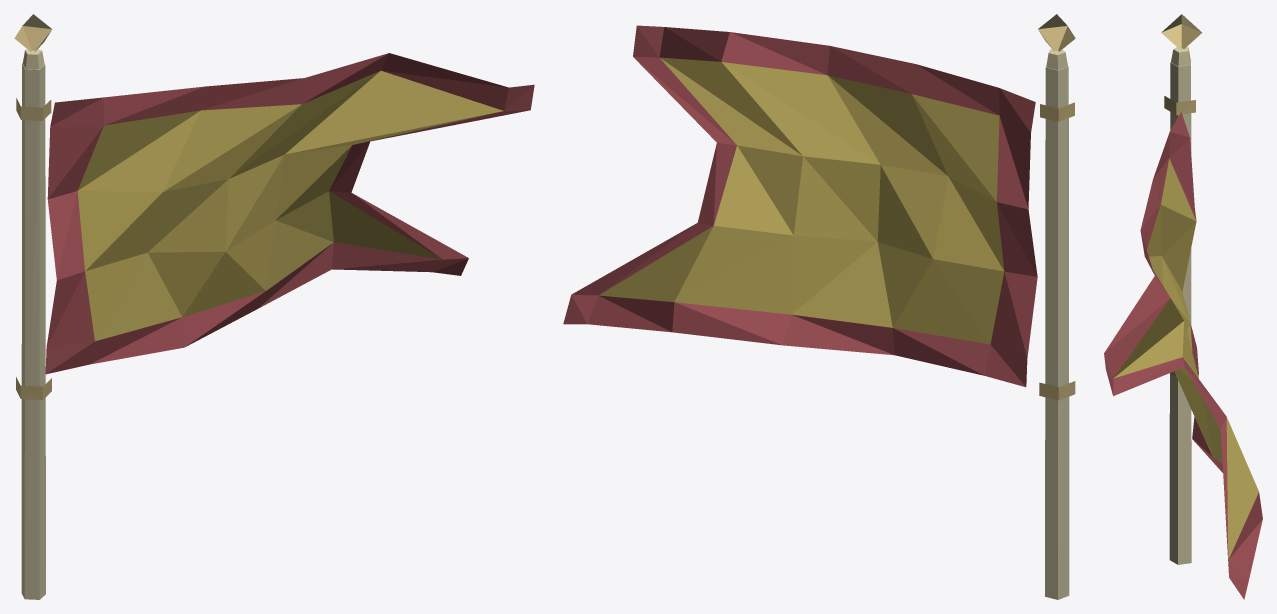
File: flag.swallowtail.jinyan__pole.stick.mugun__masthead.glb
3 views of the same model, side by side, from view 1: azimuth 30°, elevation 25°; view 2: azimuth 150°, elevation 25°; view 3: azimuth 270°, elevation 25° (orthographic). The views are drawn at different scales.
Parts seen in each view (by area): view 1: flag.swallowtail.jinyan; view 2: flag.swallowtail.jinyan; view 3: flag.swallowtail.jinyan.
Part boxes in pixels (box(x1,y1,x2,y2)): flag.swallowtail.jinyan: box(14, 14, 534, 599); flag.swallowtail.jinyan: box(563, 14, 1075, 599); flag.swallowtail.jinyan: box(1104, 14, 1262, 599).
Bounding box in the file's own units: 1.8 × 2.08 × 0.5501.
